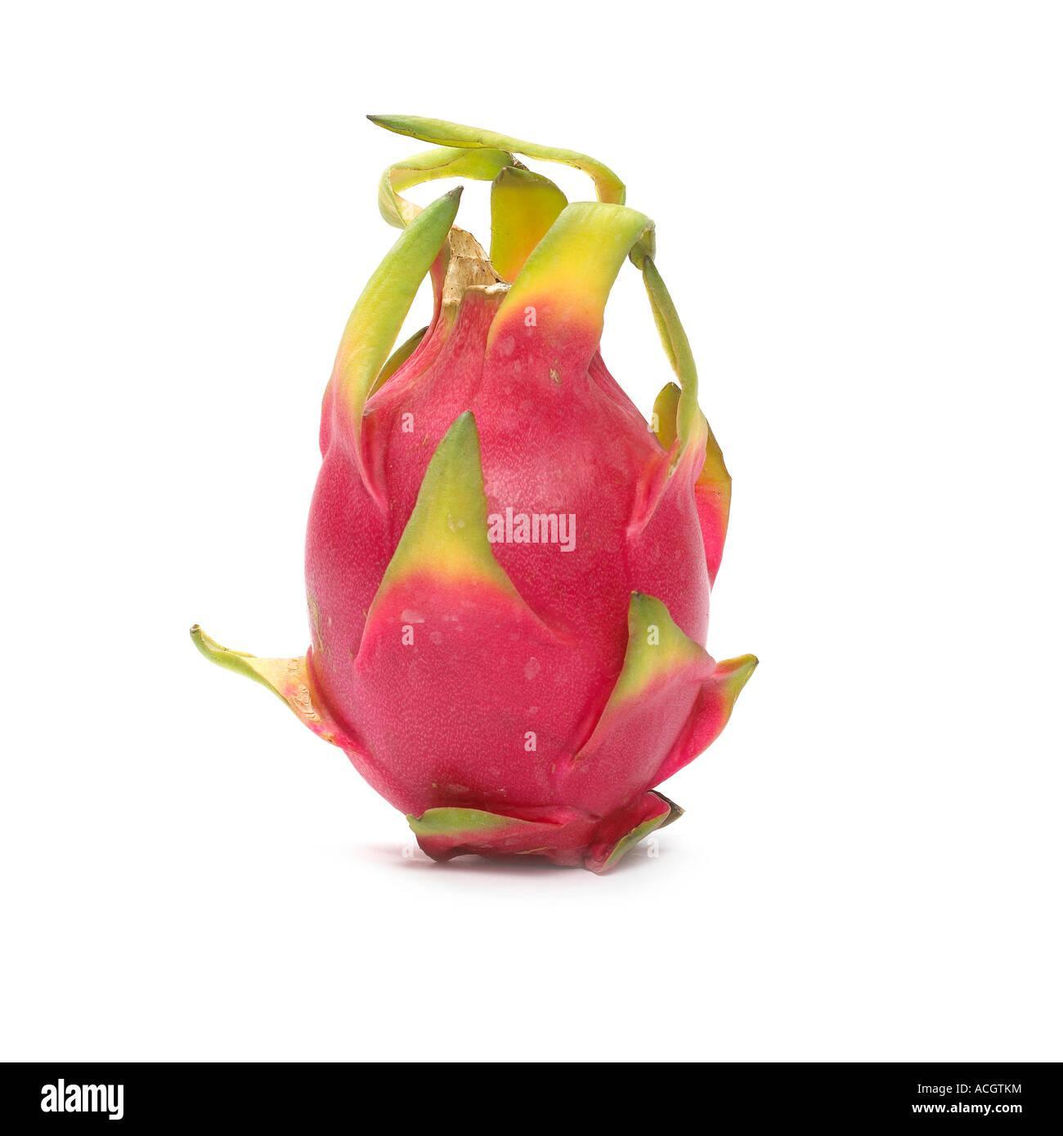dragon-fruit: (298, 283, 715, 879)
